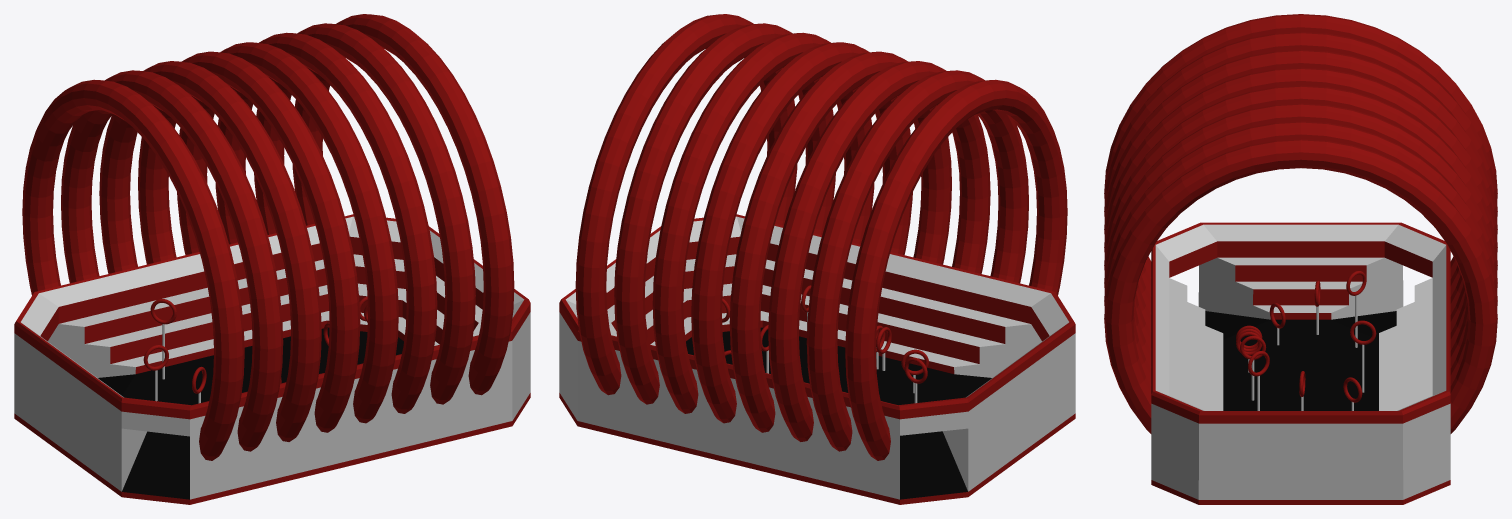
File: Stadion.fbx
3 renders of one model, left to right at view 1: azimuth 30°, elevation 25°; view 2: azimuth 150°, elevation 25°; view 3: azimuth 270°, elevation 25°, orthographic. The views are drawn at different scales.
Parts seen in each view (by area): view 1: СТадион; view 2: СТадион; view 3: СТадион.
Boxes of the visible parts, x1,y1,x2,y2 form: СТадион: (14, 14, 530, 504); СТадион: (559, 14, 1075, 504); СТадион: (1104, 14, 1497, 504).
Bounding box in the file's own units: 22929 × 18610 × 20103.
